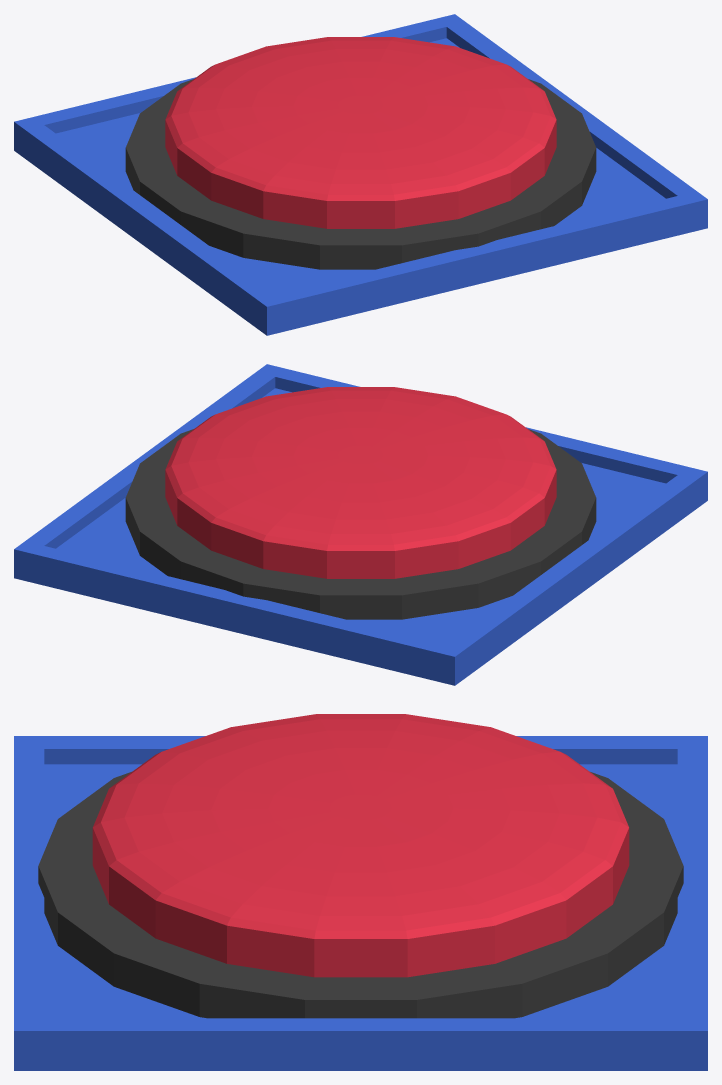
File: button.fbx
The picture shows the model from 3 angles, top to bottom: view 1: azimuth 30°, elevation 25°; view 2: azimuth 150°, elevation 25°; view 3: azimuth 270°, elevation 25°; orthographic projection. The views are drawn at different scales.
Visible parts, largest first — view 1: Cylinder, Cube; view 2: Cylinder, Cube; view 3: Cylinder, Cube.
Part boxes in pixels (<box>): Cylinder: <box>125,37,596,269</box>; Cube: <box>14,14,707,335</box>; Cylinder: <box>125,387,596,619</box>; Cube: <box>14,364,707,685</box>; Cylinder: <box>38,714,683,1018</box>; Cube: <box>14,736,707,1070</box>.
Size of the model in its own units: 2.16 by 0.3956 by 2.15.
